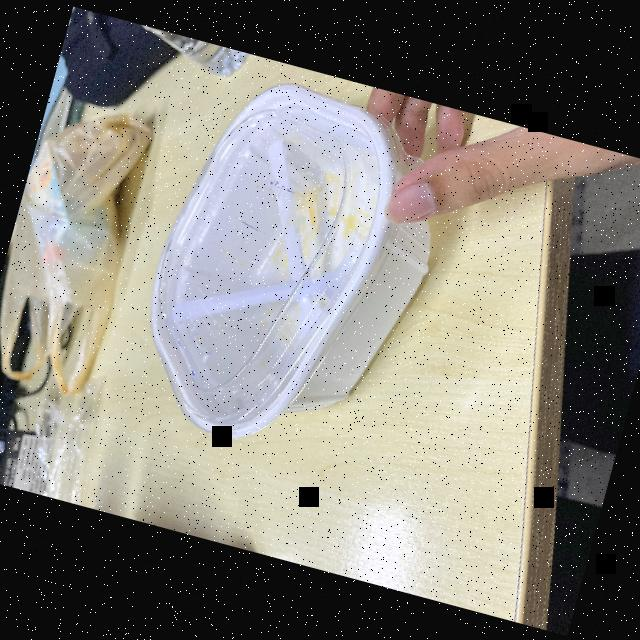plastic_box: (93, 53, 473, 486)
